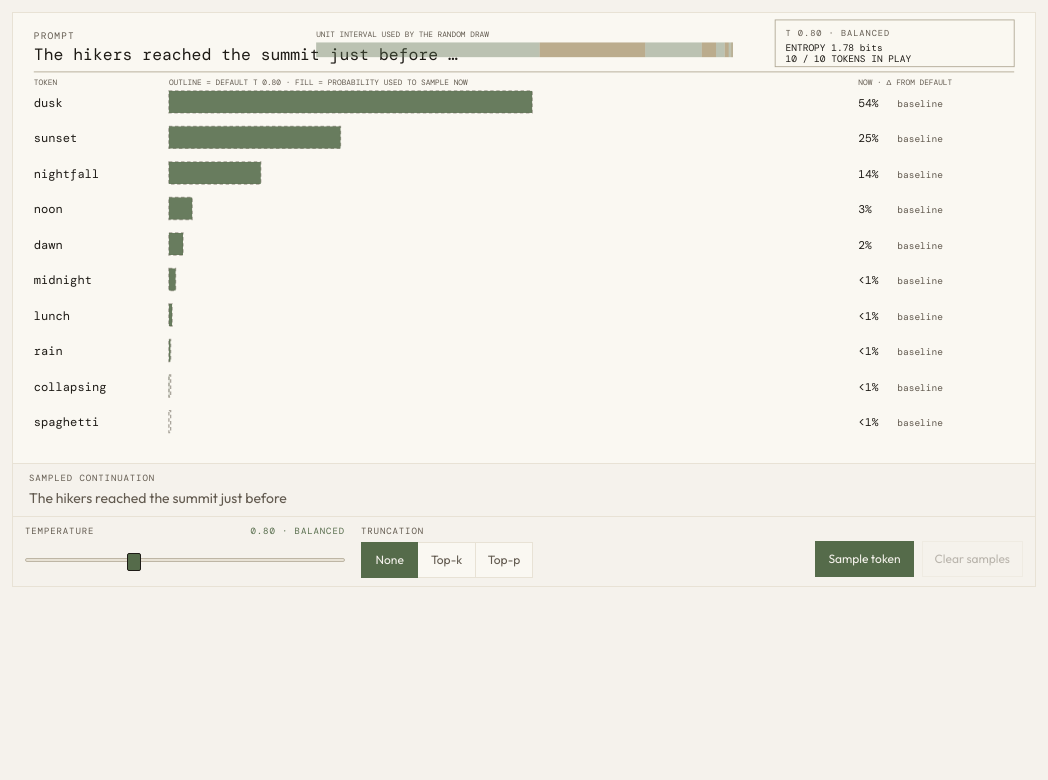
Test: TokenSamplingScene › changes the temperature regime and entropy readout
The image size is (1048, 780).
Set the slider labelled "Temperature" to "0.2" at coordinates (33, 560), box [25, 542, 345, 578]
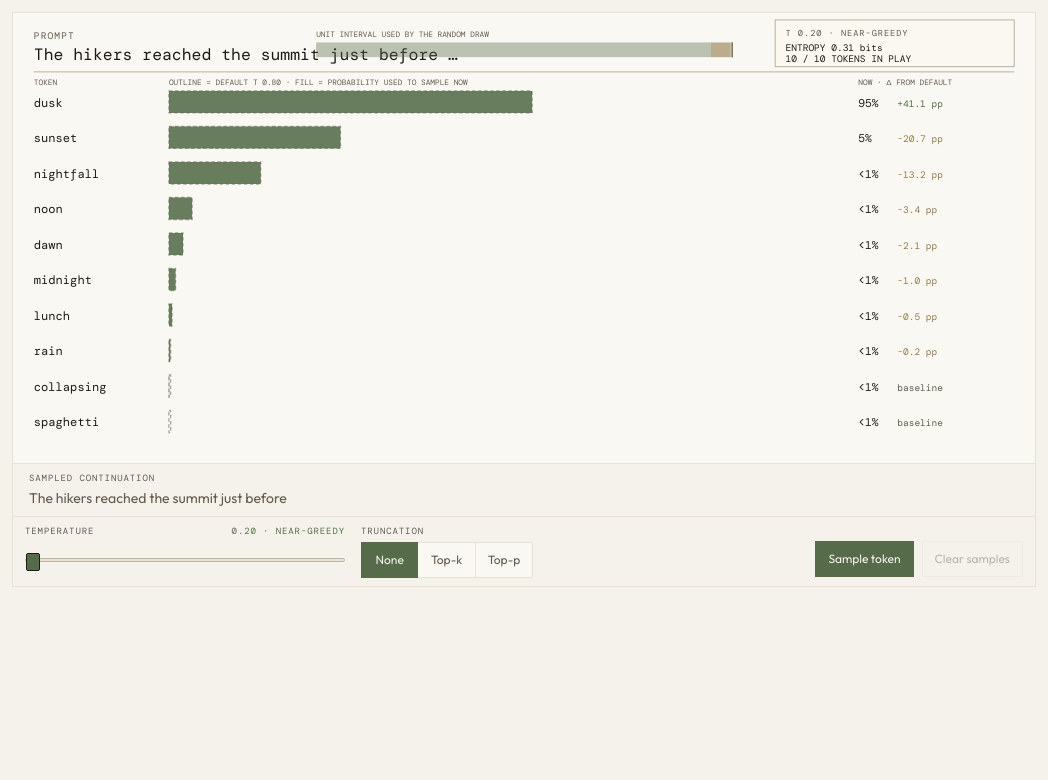
Result: the text "0.20 · near-greedy" is shown at [232, 525, 345, 538]
Set the slider labelled "Temperature" to "2" at coordinates (337, 560), box [25, 542, 345, 578]
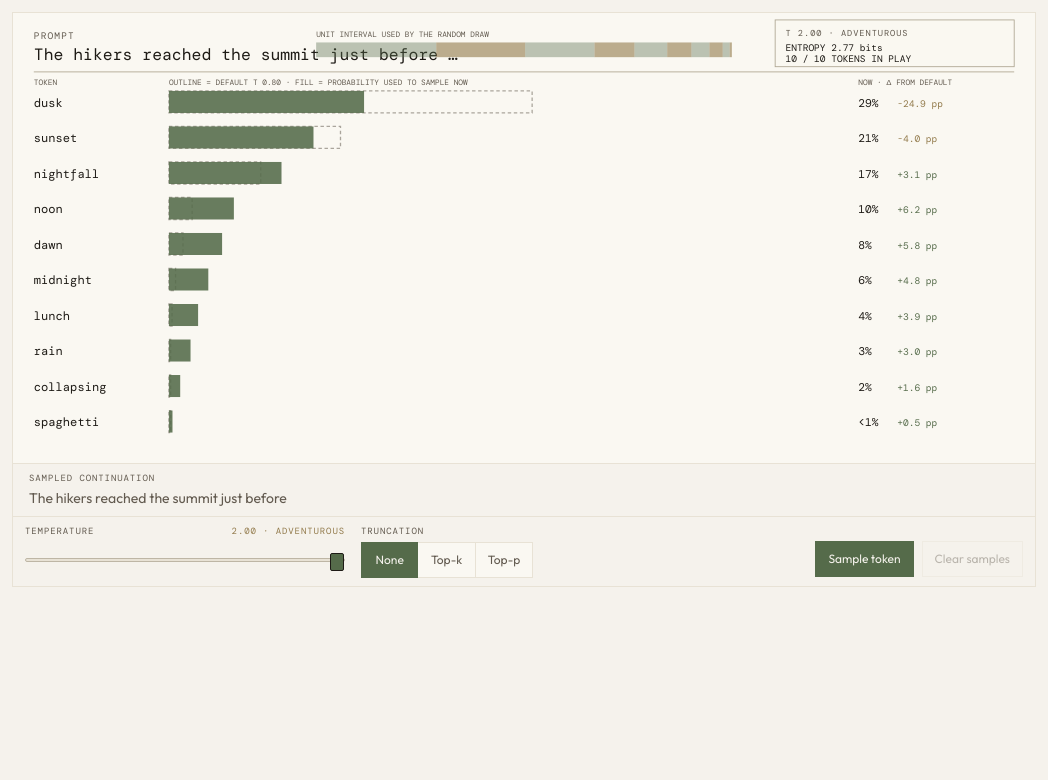
Result: the text "2.00 · adventurous" is shown at [232, 525, 345, 538]
